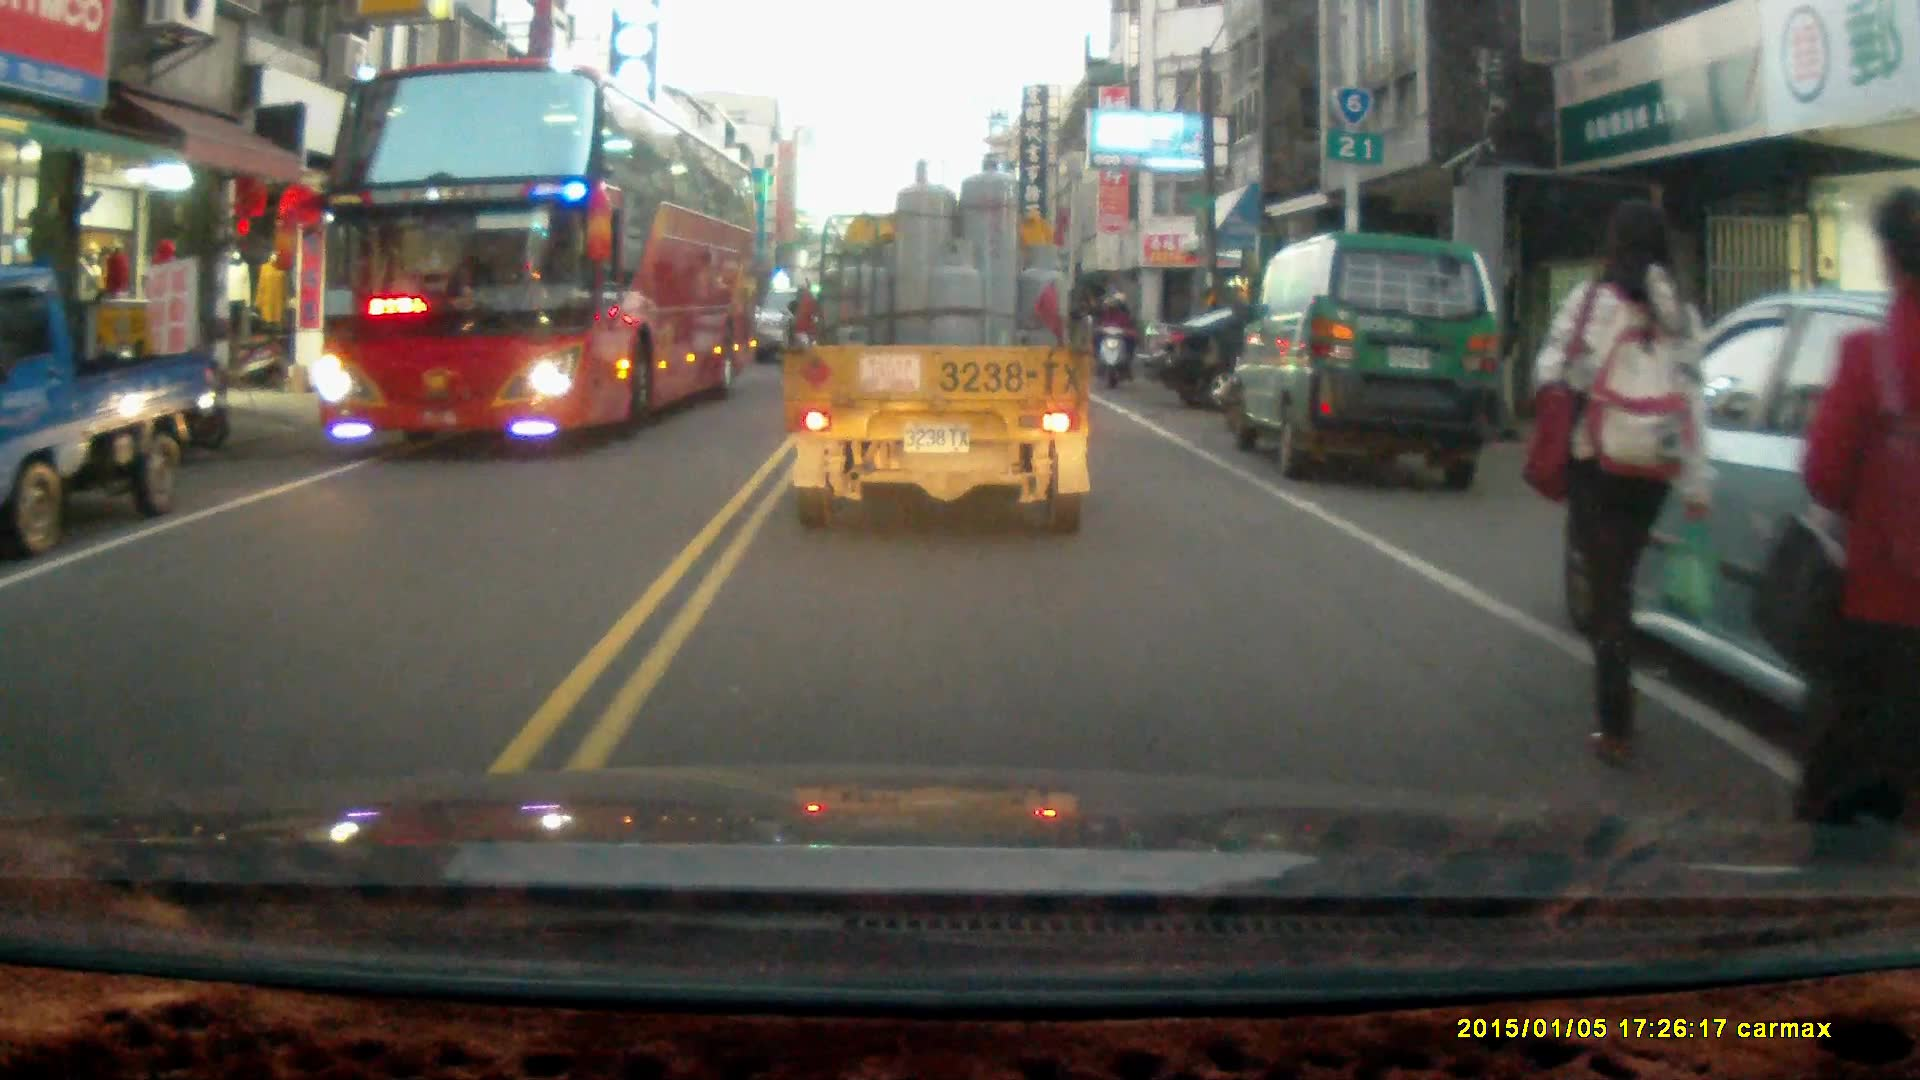pedestrian: (1527, 195, 1716, 766), (1800, 188, 1920, 849)
rider: (1090, 287, 1136, 385)
vehicle: (308, 61, 768, 454), (786, 152, 1096, 538), (1231, 231, 1501, 483), (1, 265, 221, 563), (1133, 303, 1434, 408)
